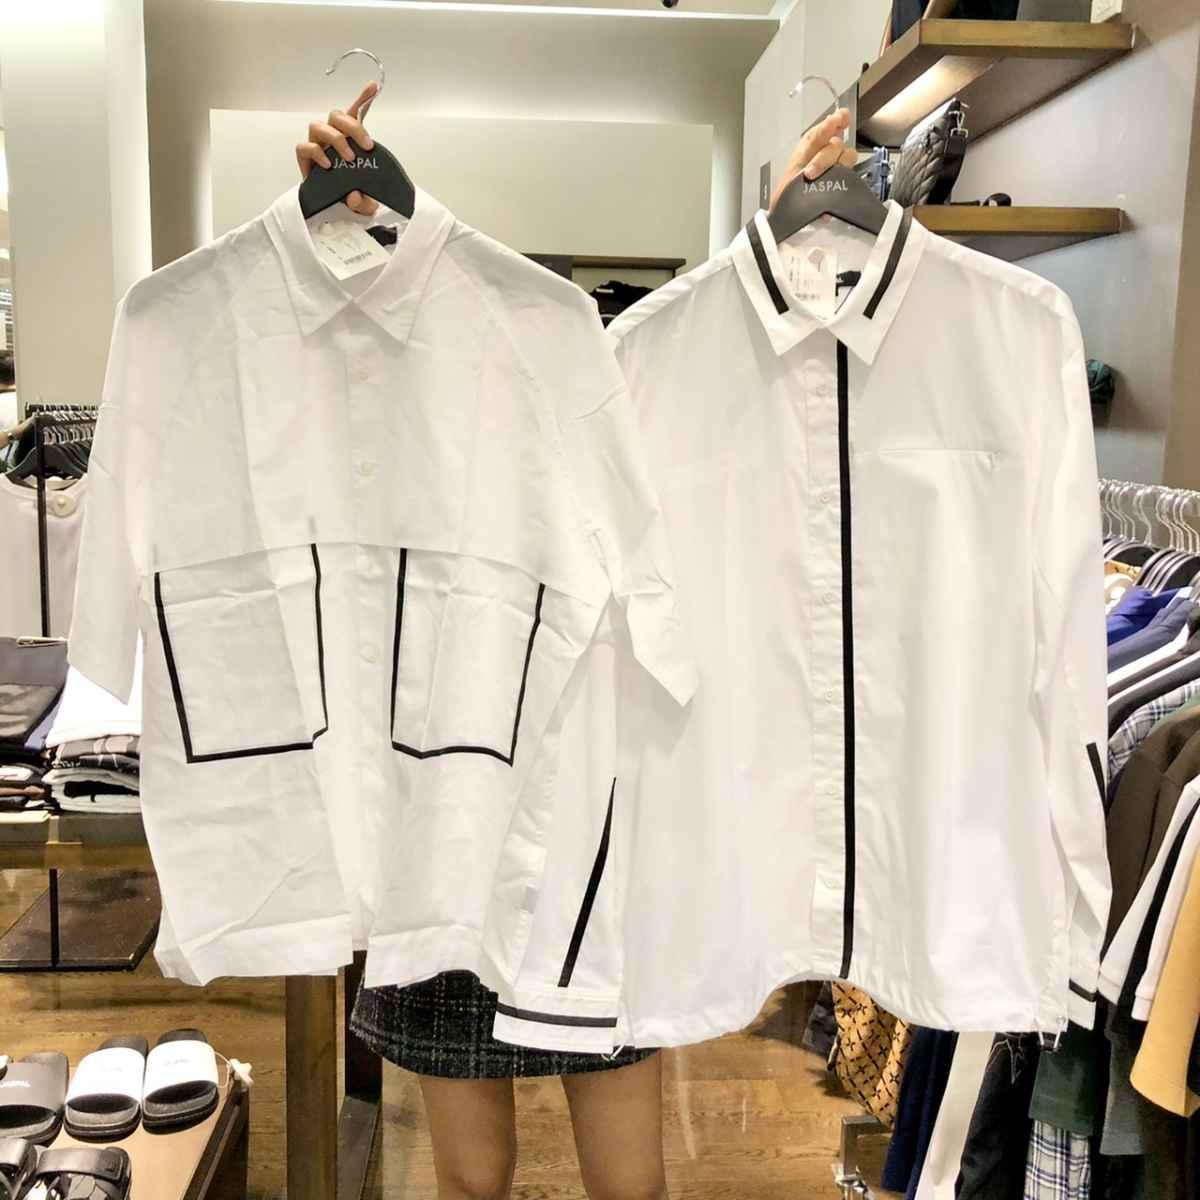shirt: (76, 203, 623, 982), (615, 235, 1118, 1029)
